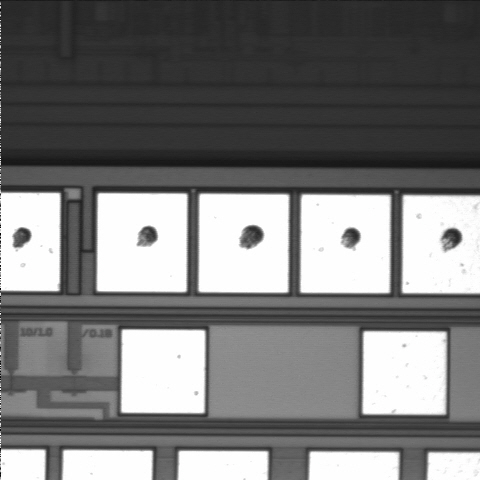pad: (97, 193, 187, 292), (199, 194, 289, 293), (301, 195, 390, 293), (121, 330, 205, 413), (363, 331, 446, 414)
